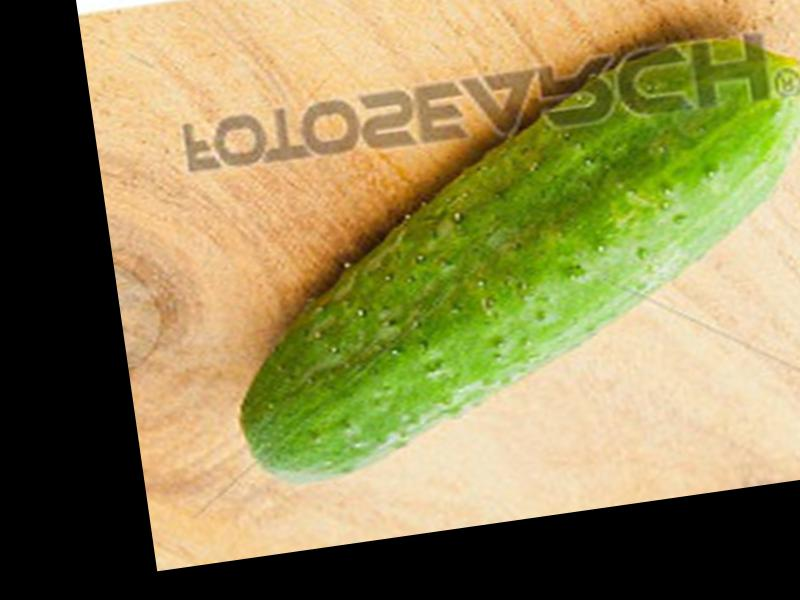Cucumber: (194, 19, 800, 490)
